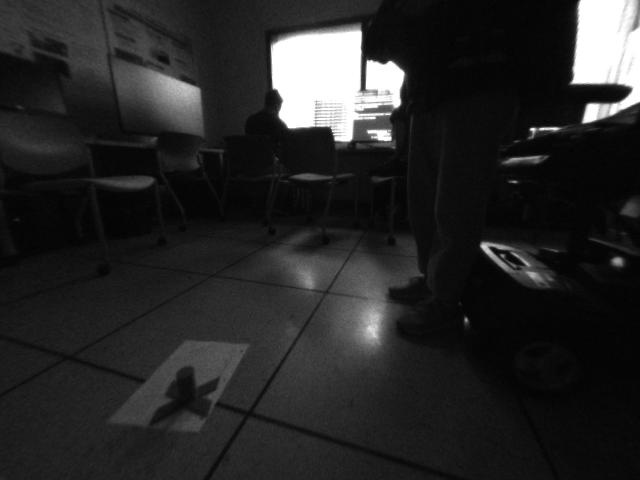x: (147, 360, 222, 425)
